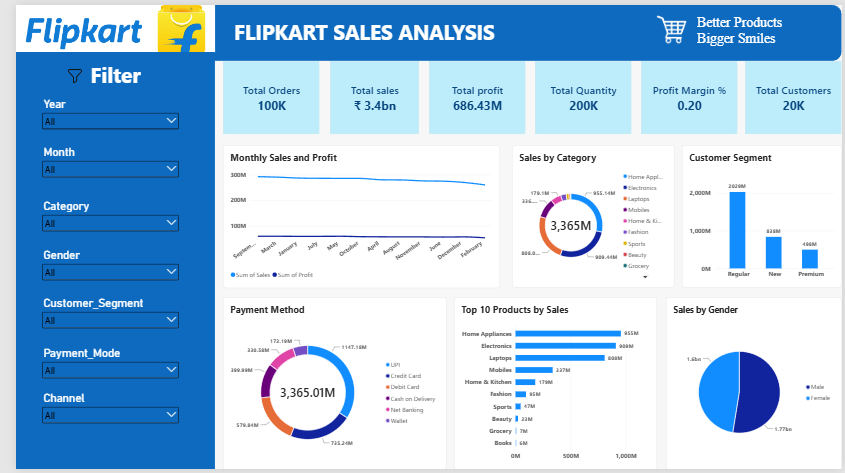

What the dashboard file says about the page in this screenshot:
{"tool":"powerbi","page":{"name":"Page 1","canvas":[1920,1080],"ordinal":0},"visuals":[{"type":"shape","box":[0,0,1920,130],"z":0},{"type":"image","box":[0,0,462.5,110],"z":1},{"type":"textbox","box":[507.5,30,618,82],"z":2},{"type":"image","box":[1467.4,16.3,116.3,76.7],"z":3},{"type":"cardVisual","title":"TOTAL SALES","fields":{"Data":["Calendar.Total sales"]},"box":[730,130,207.5,170],"z":4},{"type":"cardVisual","title":"TOTAL SALES","fields":{"Data":["Calendar.Total profit"]},"box":[960,130,224,170],"z":5},{"type":"cardVisual","title":"TOTAL SALES","fields":{"Data":["Calendar.Total Quantity"]},"box":[1208,130,224,170],"z":6},{"type":"cardVisual","title":"TOTAL SALES","fields":{"Data":["Calendar.Profit Margin %"]},"box":[1454,130,224,170],"z":7},{"type":"cardVisual","title":"TOTAL SALES","fields":{"Data":["Calendar.Total Customers"]},"box":[1696,130,224,170],"z":8},{"type":"cardVisual","title":"TOTAL SALES","fields":{"Data":["Calendar.Total Orders"]},"box":[482,130,224,170],"z":9},{"type":"shape","box":[0,110,462.5,970],"z":10},{"type":"textbox","box":[82.5,130,300,72.5],"z":11},{"type":"slicer","fields":{"Values":["Calendar.Year"]},"box":[55,215,327.5,85],"z":12},{"type":"slicer","fields":{"Values":["Calendar.Month_Name"]},"box":[55,325,327.5,92.5],"z":13},{"type":"slicer","fields":{"Values":["Products.Category"]},"box":[55,450,327.5,90],"z":14},{"type":"slicer","fields":{"Values":["Customers.Gender"]},"box":[55,565,327.5,92.5],"z":15},{"type":"slicer","fields":{"Values":["Customers.Customer_Segment"]},"box":[55,677.5,327.5,97.5],"z":16},{"type":"slicer","fields":{"Values":["Sales.Payment_Mode"]},"box":[55,792.5,327.5,87.5],"z":17},{"type":"slicer","fields":{"Values":["Sales.Channel"]},"box":[55,897.5,327.5,92.5],"z":18},{"type":"lineChart","title":"Monthly Sales and  Profit","fields":{"Category":["Calendar.Month_Name"],"Y":["Sum(Sales.Sales)","Sum(Sales.Profit)"]},"box":[481.4,325.6,644.2,332.6],"z":19},{"type":"donutChart","title":"Sales by Category","fields":{"Category":["Products.Category"],"Y":["Sum(Sales.Sales)"]},"box":[1154,326,378,332],"z":20},{"type":"pieChart","title":"Sales by Gender","fields":{"Category":["Customers.Gender"],"Y":["Sum(Sales.Sales)"]},"box":[1512,678,408,402],"z":21},{"type":"donutChart","title":"Payment Method","fields":{"Category":["Sales.Payment_Mode"],"Y":["Sum(Sales.Sales)"]},"box":[482,678,520,402],"z":22},{"type":"columnChart","title":"Customer Segment","fields":{"Category":["Customers.Customer_Segment"],"Y":["Sum(Sales.Sales)"]},"box":[1548,326,372,332],"z":23},{"type":"clusteredBarChart","title":"Top 10 Products by Sales","fields":{"Category":["Products.Category"],"Y":["Sum(Sales.Sales)"]},"box":[1018,678,472,402],"z":24},{"type":"textbox","box":[1583.7,23.3,300,86],"z":25},{"type":"image","box":[111.6,139.5,51.2,48.8],"z":26}]}

Visuals, with their boxes in screenshot pixels (x1, y1, x2, y2), scaled from the page's 1920x1080 canvas onto the 845x473 screenshot:
shape: 0, 0, 844, 57
image: 0, 0, 204, 48
textbox: 223, 13, 495, 49
image: 646, 7, 697, 41
"TOTAL SALES" cardVisual: 321, 57, 413, 131
"TOTAL SALES" cardVisual: 422, 57, 521, 131
"TOTAL SALES" cardVisual: 532, 57, 630, 131
"TOTAL SALES" cardVisual: 640, 57, 738, 131
"TOTAL SALES" cardVisual: 746, 57, 844, 131
"TOTAL SALES" cardVisual: 212, 57, 311, 131
shape: 0, 48, 204, 472
textbox: 36, 57, 168, 89
slicer - Calendar.Year: 24, 94, 168, 131
slicer - Calendar.Month_Name: 24, 142, 168, 183
slicer - Products.Category: 24, 197, 168, 236
slicer - Customers.Gender: 24, 247, 168, 288
slicer - Customers.Customer_Segment: 24, 297, 168, 339
slicer - Sales.Payment_Mode: 24, 347, 168, 385
slicer - Sales.Channel: 24, 393, 168, 434
"Monthly Sales and  Profit" lineChart: 212, 143, 495, 288
"Sales by Category" donutChart: 508, 143, 674, 288
"Sales by Gender" pieChart: 665, 297, 844, 472
"Payment Method" donutChart: 212, 297, 441, 472
"Customer Segment" columnChart: 681, 143, 844, 288
"Top 10 Products by Sales" clusteredBarChart: 448, 297, 656, 472
textbox: 697, 10, 829, 48
image: 49, 61, 72, 82
